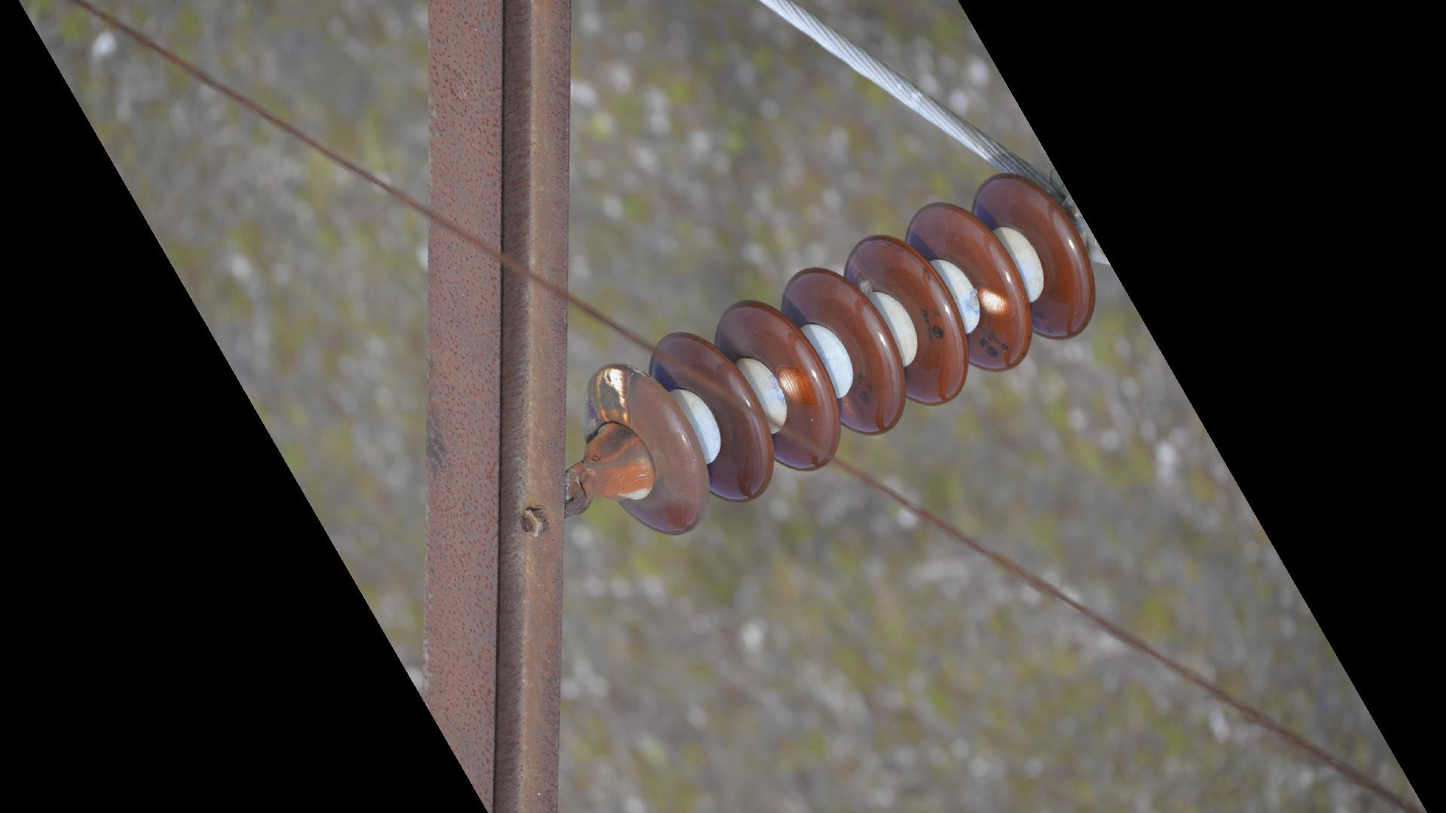insulator: (578, 169, 1101, 542)
insulator_flashover: (592, 360, 636, 431), (774, 362, 822, 410), (975, 282, 1014, 320)
